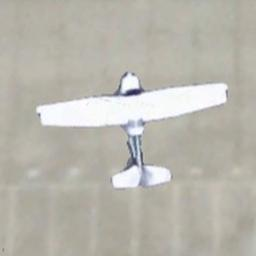Airplane: (35, 70, 229, 189)
